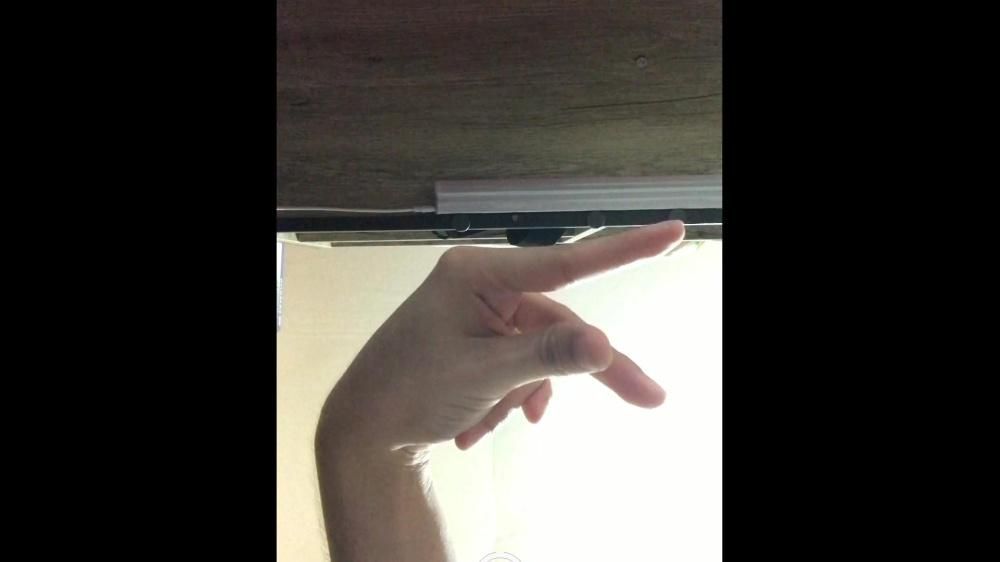p: (388, 214, 684, 452)
